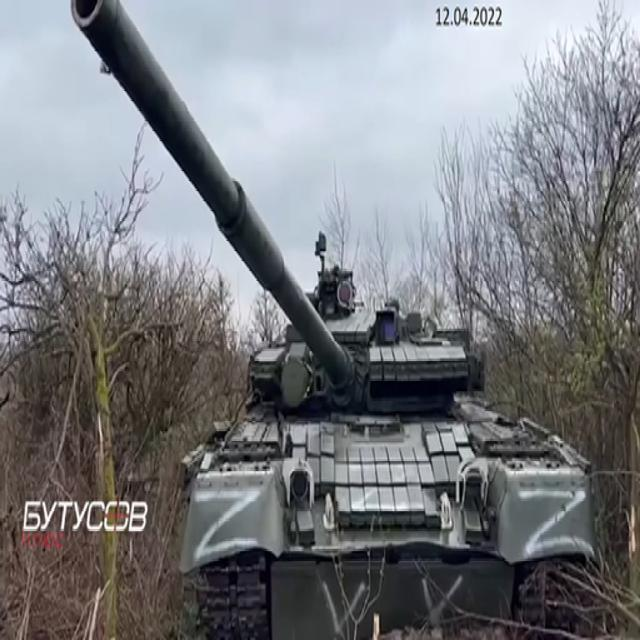TANK: (70, 0, 592, 638)
